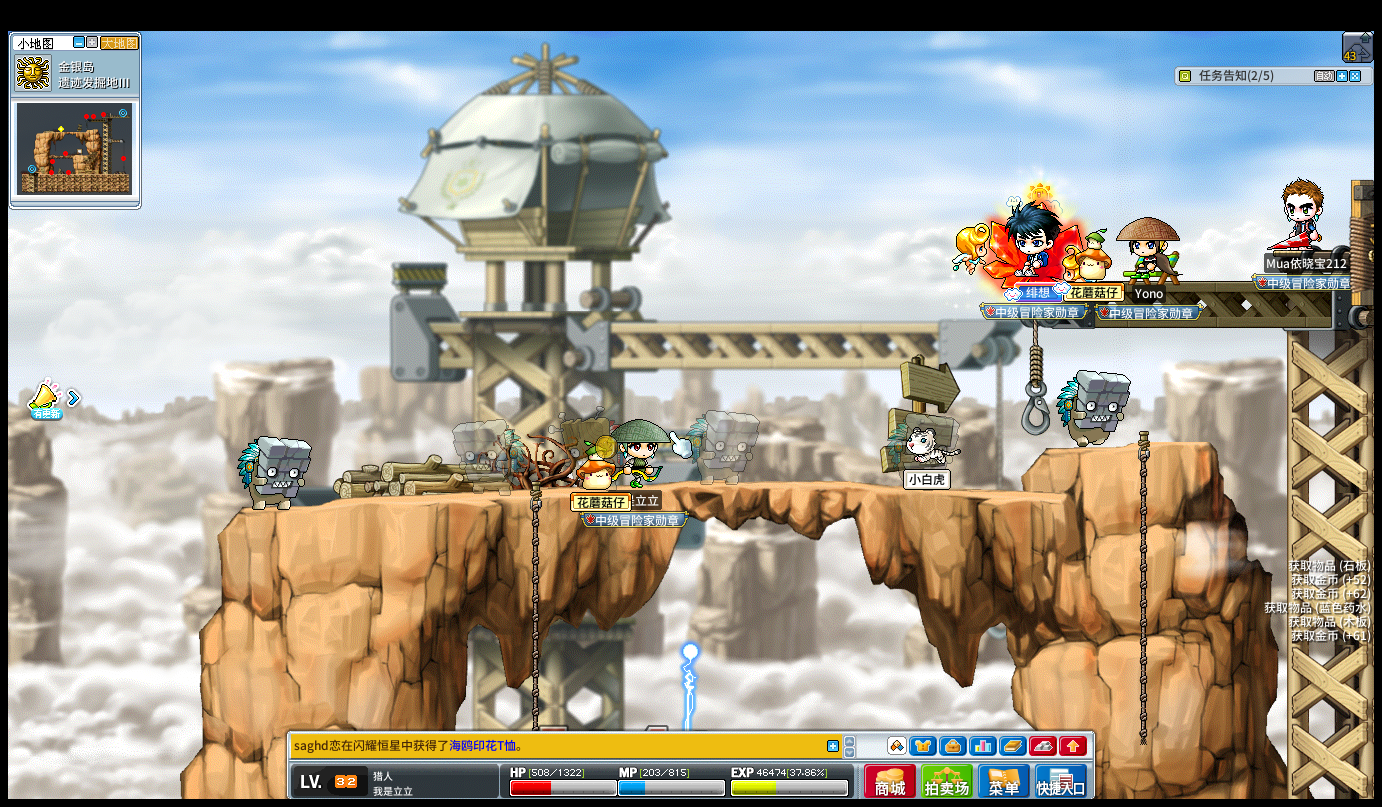floor: (222, 478, 1011, 510), (225, 478, 1109, 502), (1038, 437, 1212, 452)
monster: (1056, 369, 1131, 448), (236, 435, 312, 511), (450, 417, 524, 494), (686, 408, 760, 484)
rope: (1135, 426, 1150, 754), (1135, 430, 1149, 658), (528, 481, 541, 681)
